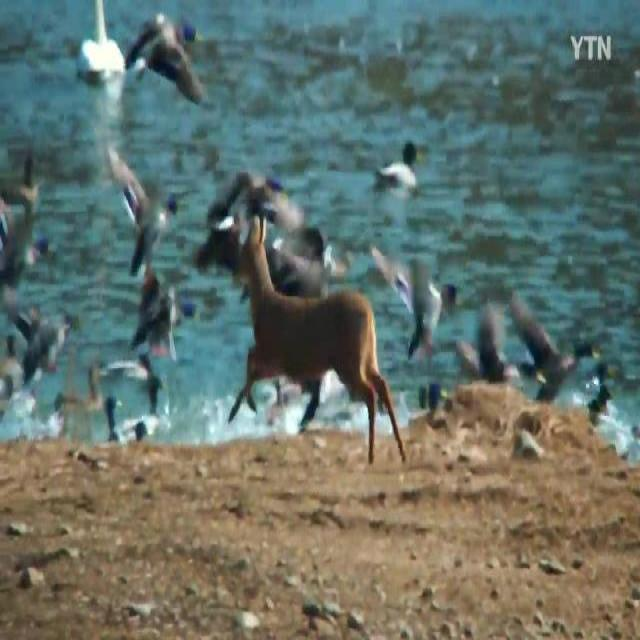deer: (230, 215, 406, 465)
